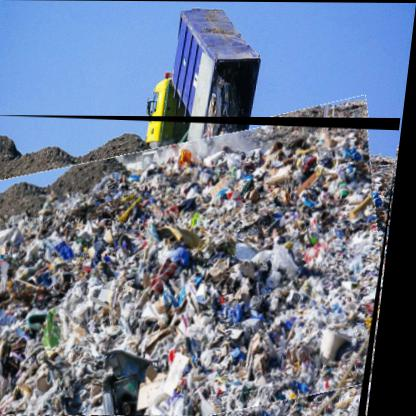Garbage: (1, 116, 406, 416)
